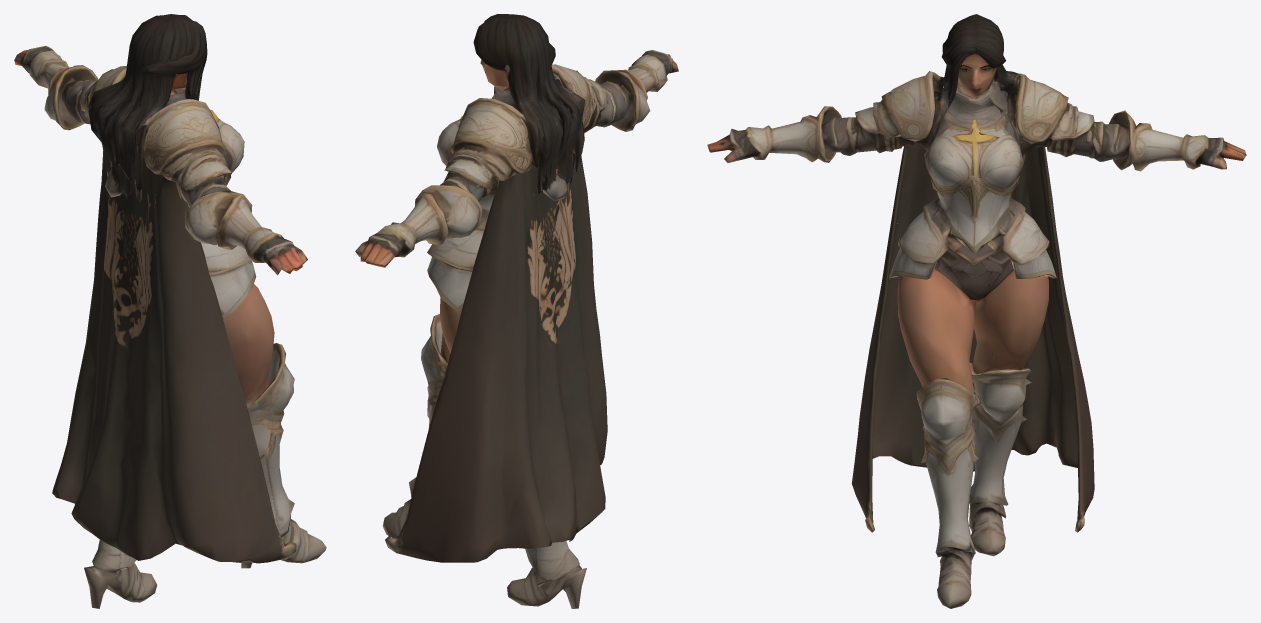
Rendered from Char_Juramentada_F.glb.
The picture shows the model from 3 angles, left to right: view 1: azimuth 30°, elevation 25°; view 2: azimuth 150°, elevation 25°; view 3: azimuth 270°, elevation 25°; orthographic projection. The views are drawn at different scales.
Visible parts, largest first — view 1: tripo_node_8ea1933c-d40a-405f-a5b9-b50faa4e519a; view 2: tripo_node_8ea1933c-d40a-405f-a5b9-b50faa4e519a; view 3: tripo_node_8ea1933c-d40a-405f-a5b9-b50faa4e519a.
Boxes of the visible parts, x1=… form: tripo_node_8ea1933c-d40a-405f-a5b9-b50faa4e519a: x1=14, y1=14, x2=326, y2=608; tripo_node_8ea1933c-d40a-405f-a5b9-b50faa4e519a: x1=355, y1=14, x2=678, y2=608; tripo_node_8ea1933c-d40a-405f-a5b9-b50faa4e519a: x1=707, y1=14, x2=1246, y2=608.
Bounding box in the file's own units: 0.4013 × 0.9996 × 0.9061.
Materials: 1 (1 with a texture image).
